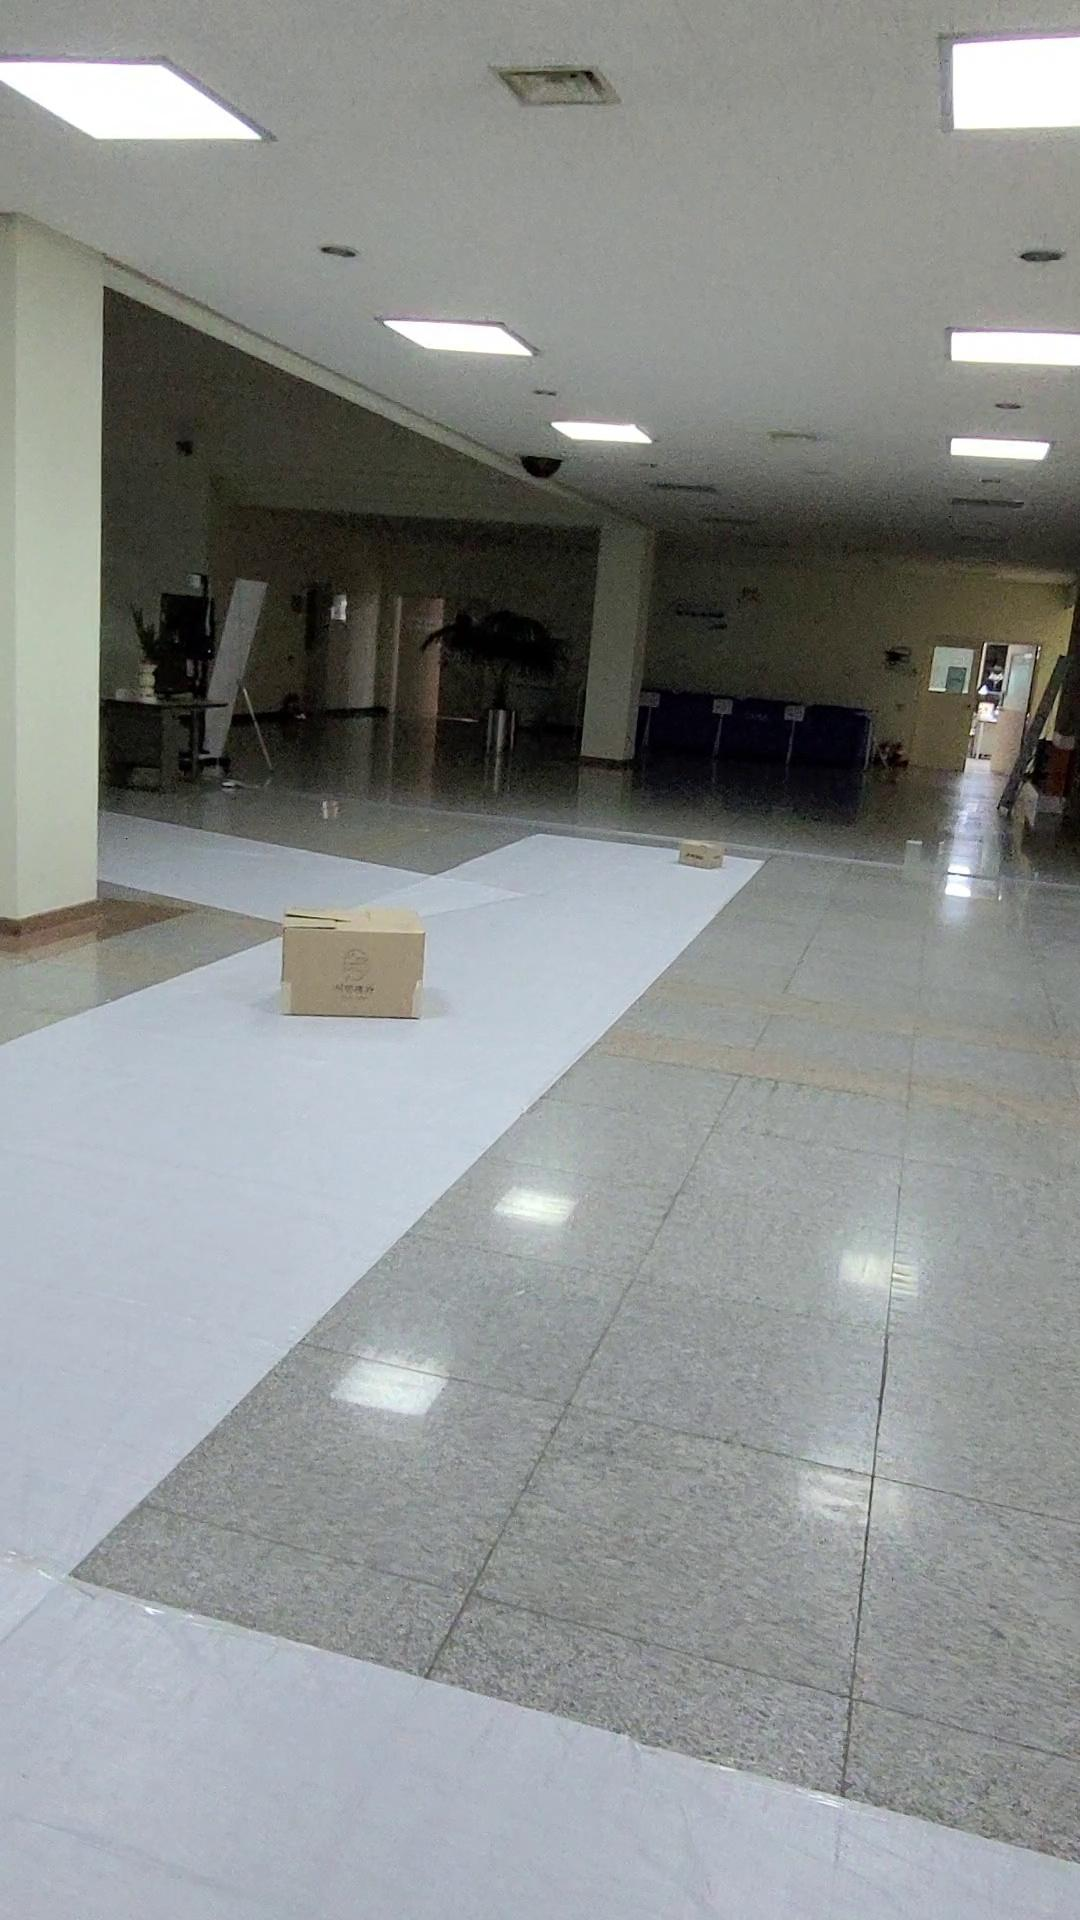Box: (273, 876, 435, 1042), (638, 810, 756, 889)
